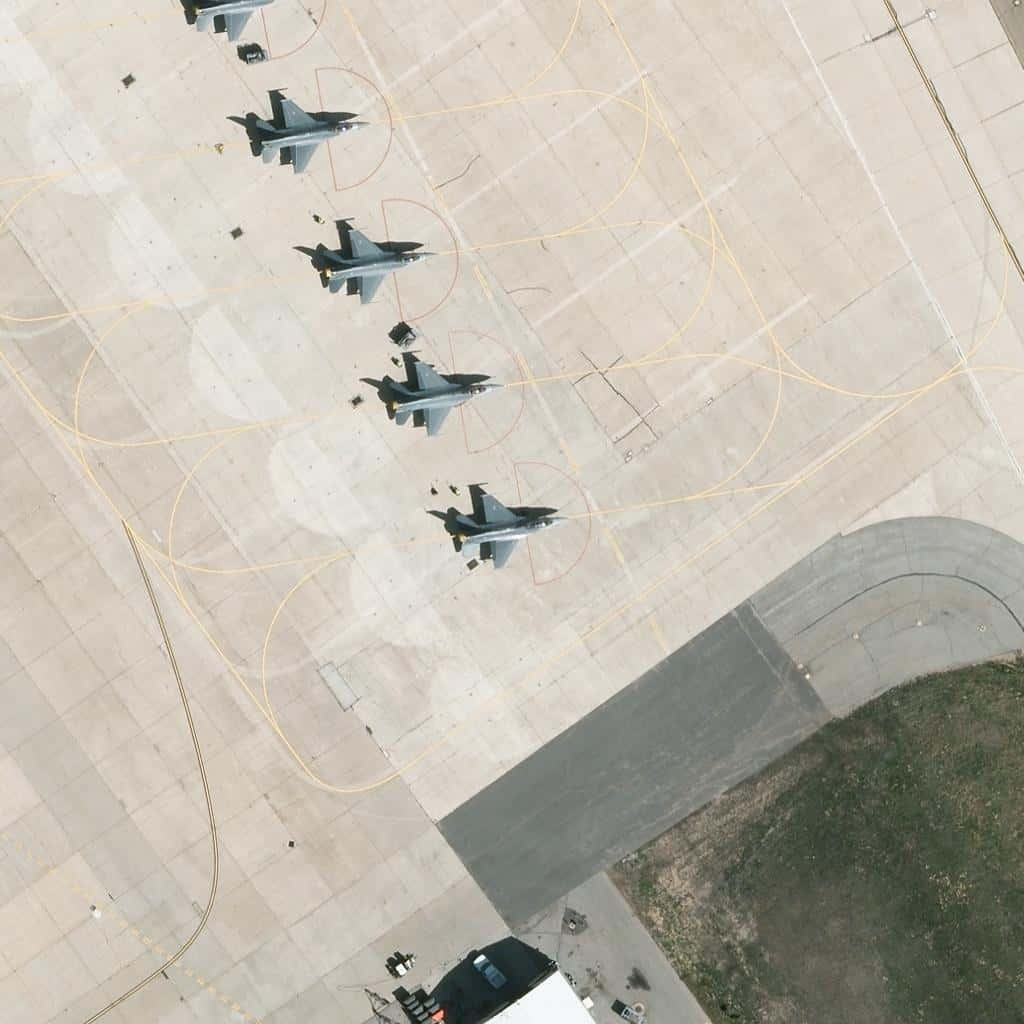plane: (310, 226, 442, 304), (383, 355, 503, 434), (453, 490, 557, 578), (251, 99, 370, 172), (185, 1, 293, 43)
